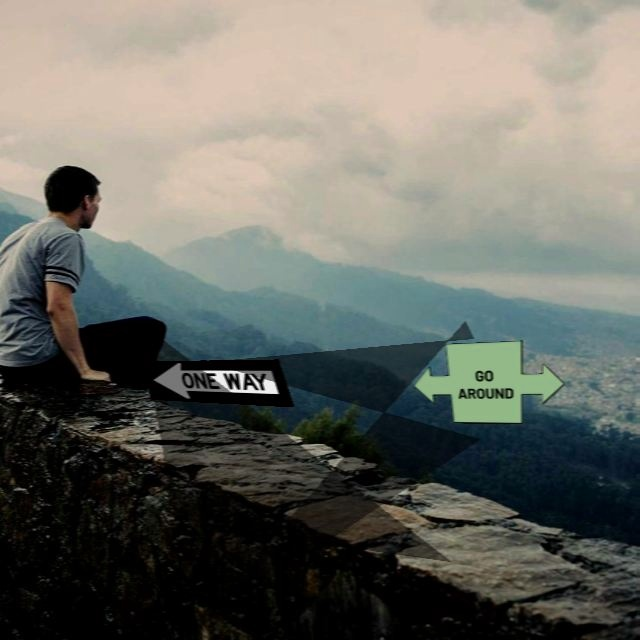GO_AROUND: (414, 340, 566, 424)
ONE_WAY_ left: (143, 359, 295, 407)
